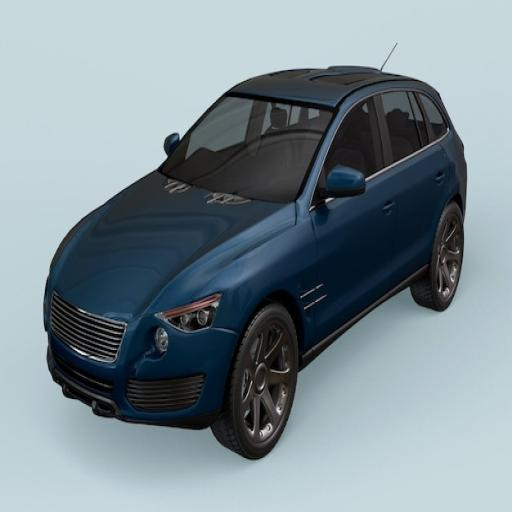Sedan-sDLz: (44, 68, 466, 457)
